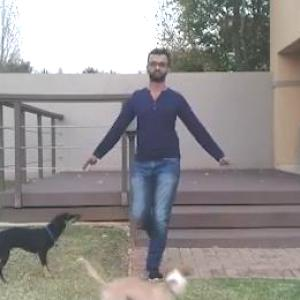land: (111, 66, 210, 252)
